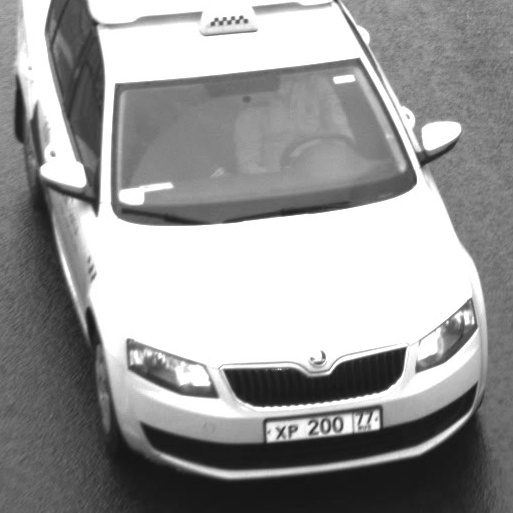plate: (251, 396, 392, 450)
